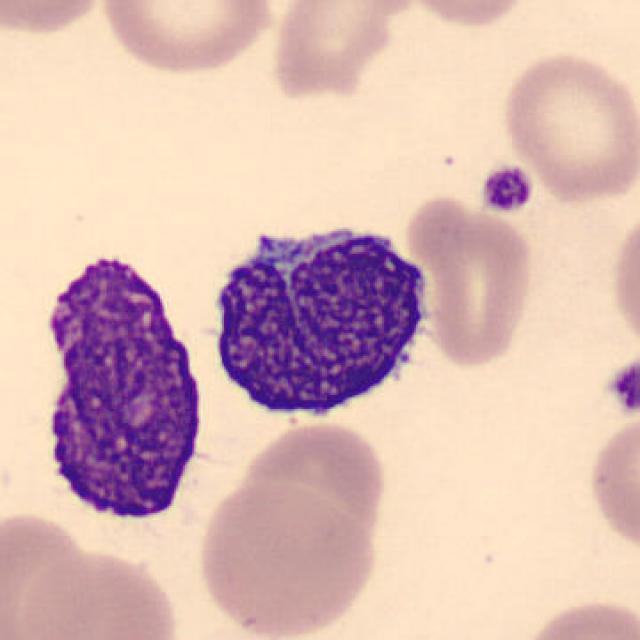Lymphocyte: (18, 243, 220, 536), (199, 203, 446, 432)
Platelets: (476, 160, 537, 217), (604, 354, 640, 422)
RBC: (191, 479, 380, 640), (402, 190, 538, 372), (498, 48, 638, 206), (237, 416, 391, 557), (12, 545, 185, 640), (267, 0, 409, 106), (94, 0, 280, 79), (0, 506, 103, 638), (583, 411, 640, 559), (514, 594, 638, 640), (608, 205, 640, 356), (0, 0, 114, 39), (404, 0, 535, 32)
